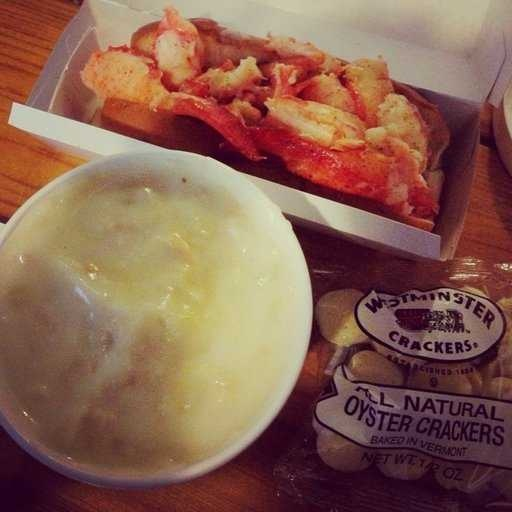soup: (23, 170, 266, 465)
